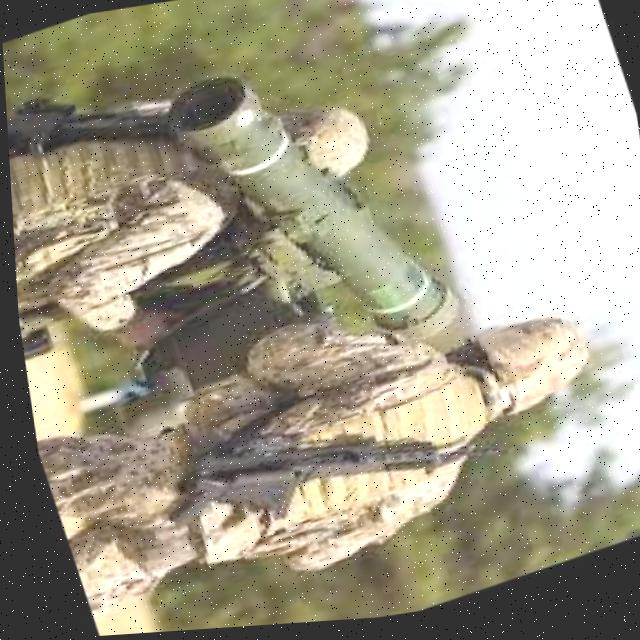rocket: (152, 20, 470, 406)
